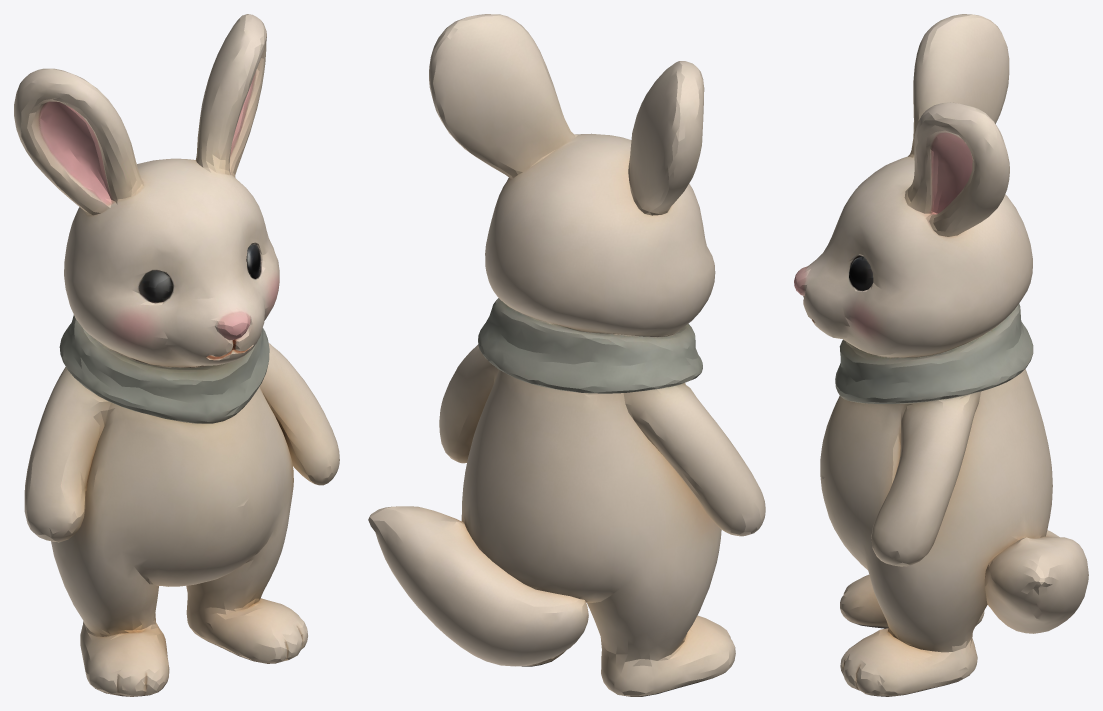
Rendered from base_basic_pbr.glb.
The picture shows the model from 3 angles, left to right: view 1: azimuth 30°, elevation 25°; view 2: azimuth 150°, elevation 25°; view 3: azimuth 270°, elevation 25°; orthographic projection. The views are drawn at different scales.
Parts seen in each view (by area): view 1: Mesh; view 2: Mesh; view 3: Mesh.
Boxes of the visible parts, x1=… form: Mesh: x1=14, y1=14, x2=339, y2=696; Mesh: x1=368, y1=14, x2=765, y2=696; Mesh: x1=794, y1=14, x2=1088, y2=696.
Size of the model in its own units: 1.01 by 1.9 by 0.8608.
Materials: 1 (1 with a texture image).
